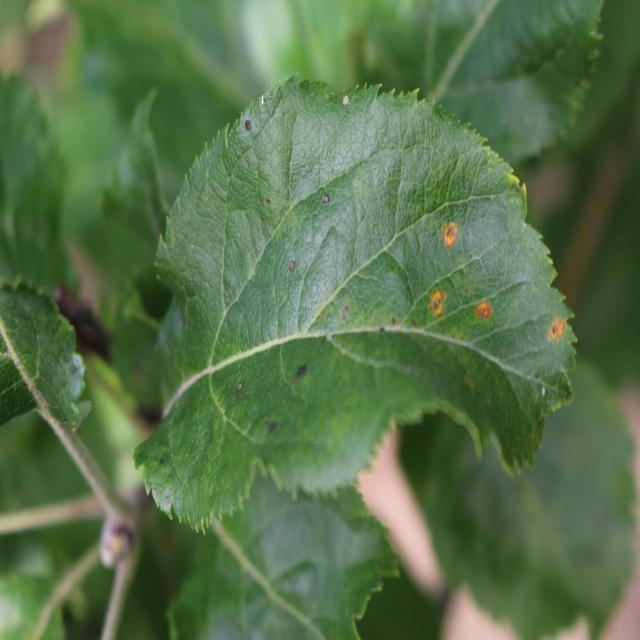Rust: (436, 197, 467, 258), (544, 308, 571, 358), (468, 294, 500, 333), (427, 274, 447, 328)
